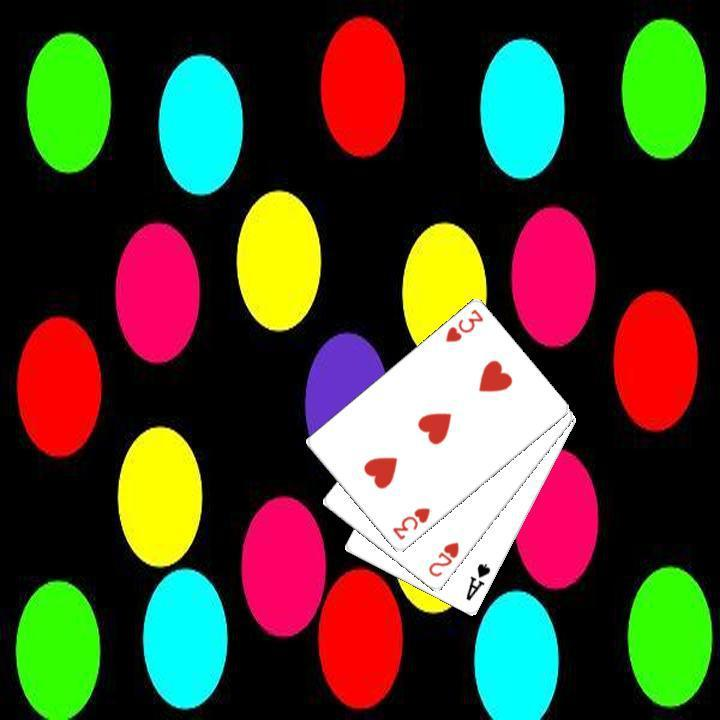2: (424, 538, 461, 580)
3: (441, 305, 485, 345), (388, 503, 432, 542)
A: (461, 559, 493, 603)
